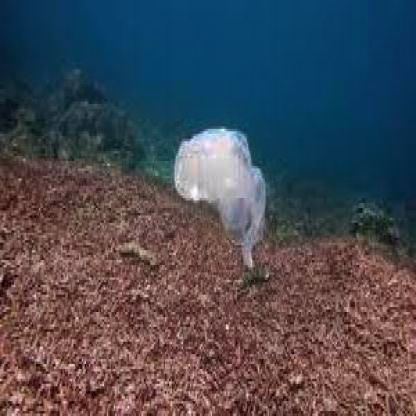pbag: (166, 111, 272, 275)
